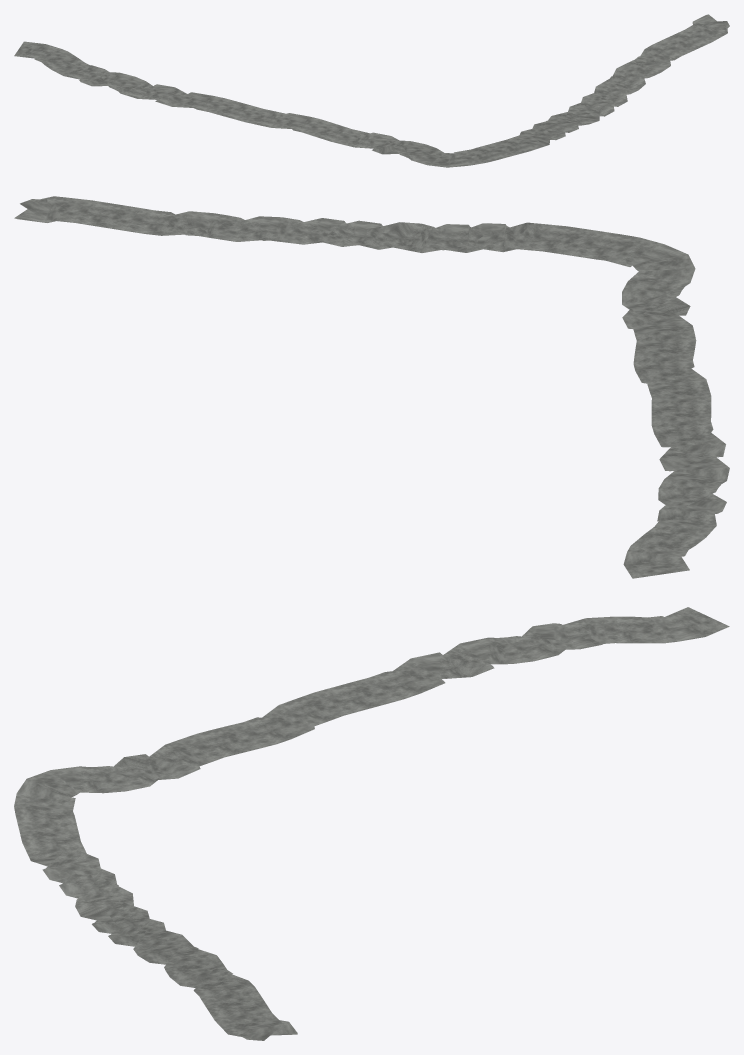
The model's file is RD-ROAD-006.obj.
3 renders of one model, top to bottom at view 1: azimuth 30°, elevation 25°; view 2: azimuth 150°, elevation 25°; view 3: azimuth 270°, elevation 25°, orthographic. The views are drawn at different scales.
Visible parts, largest first — view 1: RD-ROAD-006; view 2: RD-ROAD-006; view 3: RD-ROAD-006.
Boxes of the visible parts, x1,y1,x2,y2 form: RD-ROAD-006: (14, 14, 729, 167); RD-ROAD-006: (14, 196, 729, 578); RD-ROAD-006: (14, 607, 729, 1040).
Bounding box in the file's own units: 72.77 × 1.79 × 51.37.
Materials: 1 (1 with a texture image).
